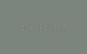eight: (34, 19, 41, 33)
five: (17, 17, 24, 32)
four: (25, 18, 32, 33)
one: (42, 19, 49, 34)
six: (50, 20, 57, 35)
zero: (58, 21, 65, 35)
